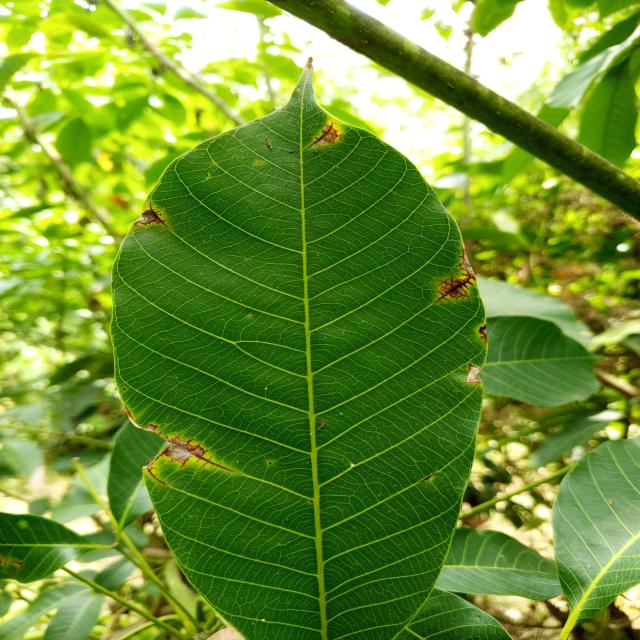Colletotrichum: (123, 388, 126, 390)
Corynespora: (163, 432, 234, 472), (434, 247, 477, 304), (133, 201, 170, 229), (309, 118, 342, 148), (143, 459, 168, 486), (478, 324, 487, 343), (418, 473, 436, 482)
Leaf-Blight: (466, 367, 482, 382)
